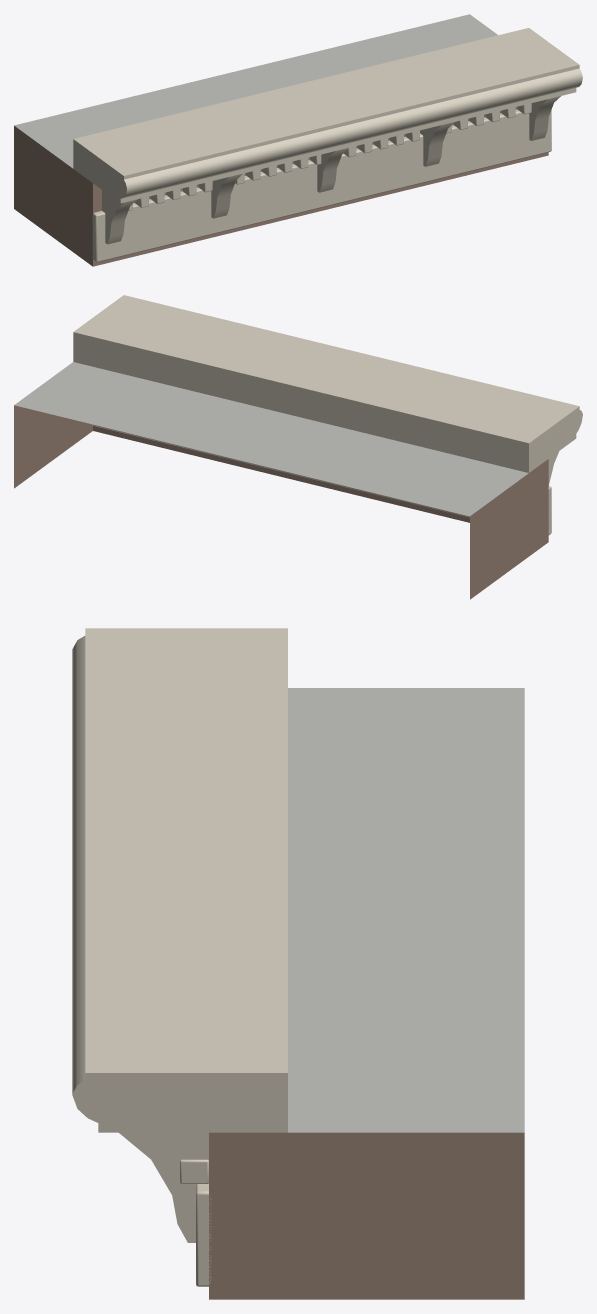
File: cap_cornice_4.glb
3 views of the same model, one above another, from view 1: azimuth 30°, elevation 25°; view 2: azimuth 150°, elevation 25°; view 3: azimuth 270°, elevation 25° (orthographic). The views are drawn at different scales.
Visible parts, largest first — view 1: cap_cornice_4; view 2: cap_cornice_4; view 3: cap_cornice_4.
Boxes of the visible parts, x1,y1,x2,y2 form: cap_cornice_4: (14,14,582,266); cap_cornice_4: (14,295,582,599); cap_cornice_4: (72,628,524,1299).
Size of the model in its own units: 4 by 0.95 by 1.72.
